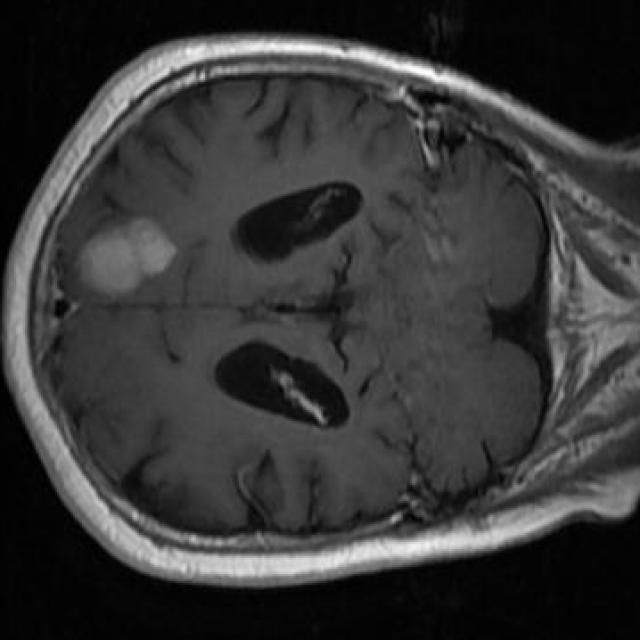meningioma: (78, 219, 175, 294)
